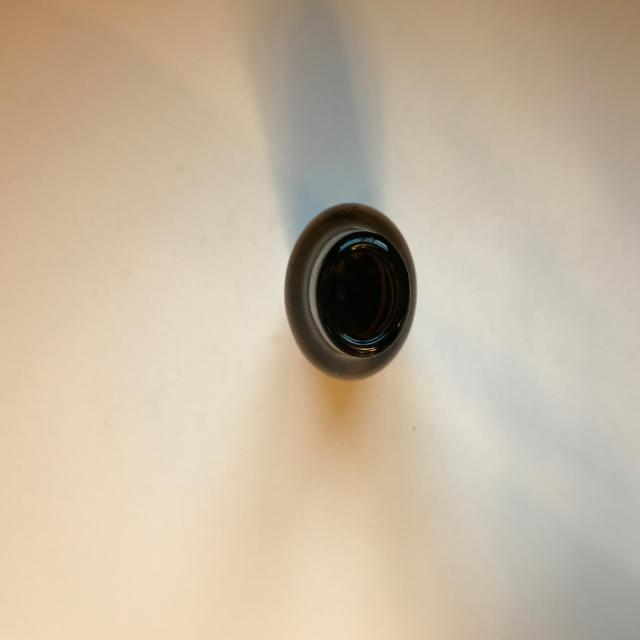glass: (284, 200, 418, 382)
